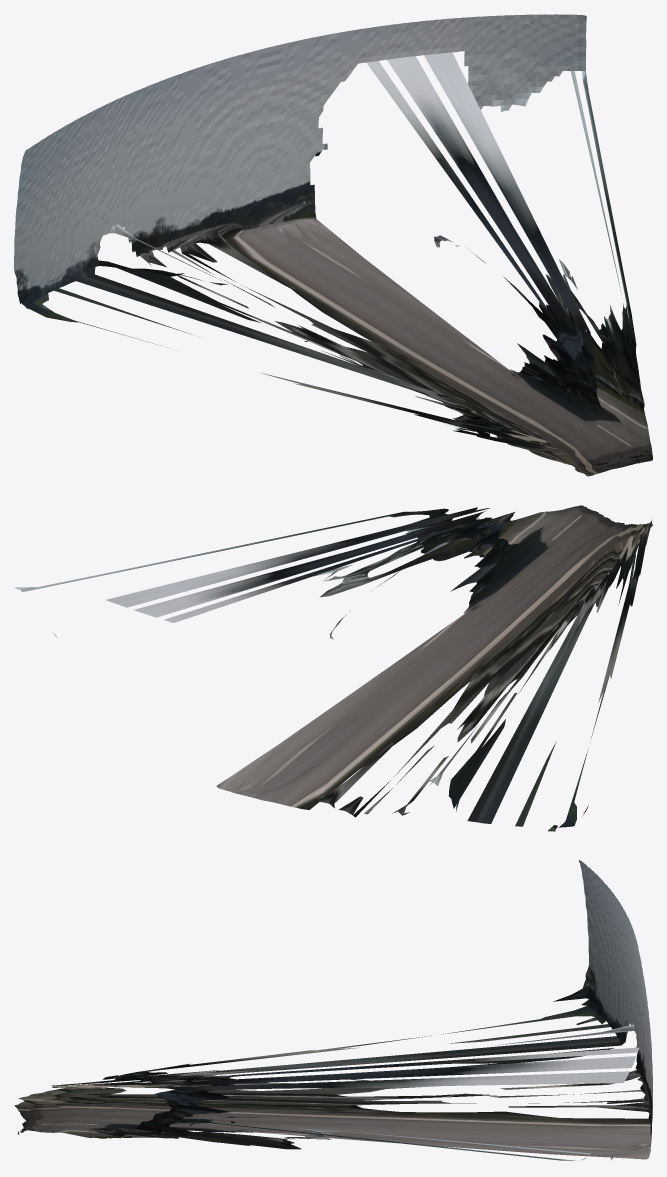
The picture shows the model from 3 angles, top to bottom: view 1: azimuth 30°, elevation 25°; view 2: azimuth 150°, elevation 25°; view 3: azimuth 270°, elevation 25°; orthographic projection. The views are drawn at different scales.
Visible parts, largest first — view 1: defaultobject; view 2: defaultobject; view 3: defaultobject.
Boxes of the visible parts, x1,y1,x2,y2 form: defaultobject: [14, 14, 652, 476]; defaultobject: [14, 505, 652, 831]; defaultobject: [14, 860, 652, 1160].
Bounding box in the file's own units: 41.05 × 13.17 × 44.68.
Materials: 1 (1 with a texture image).
